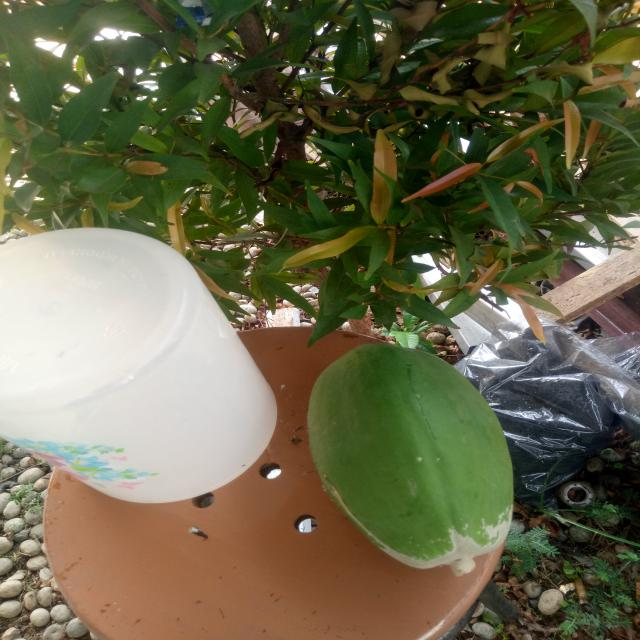Pepaya unrippen: (305, 341, 528, 577)
